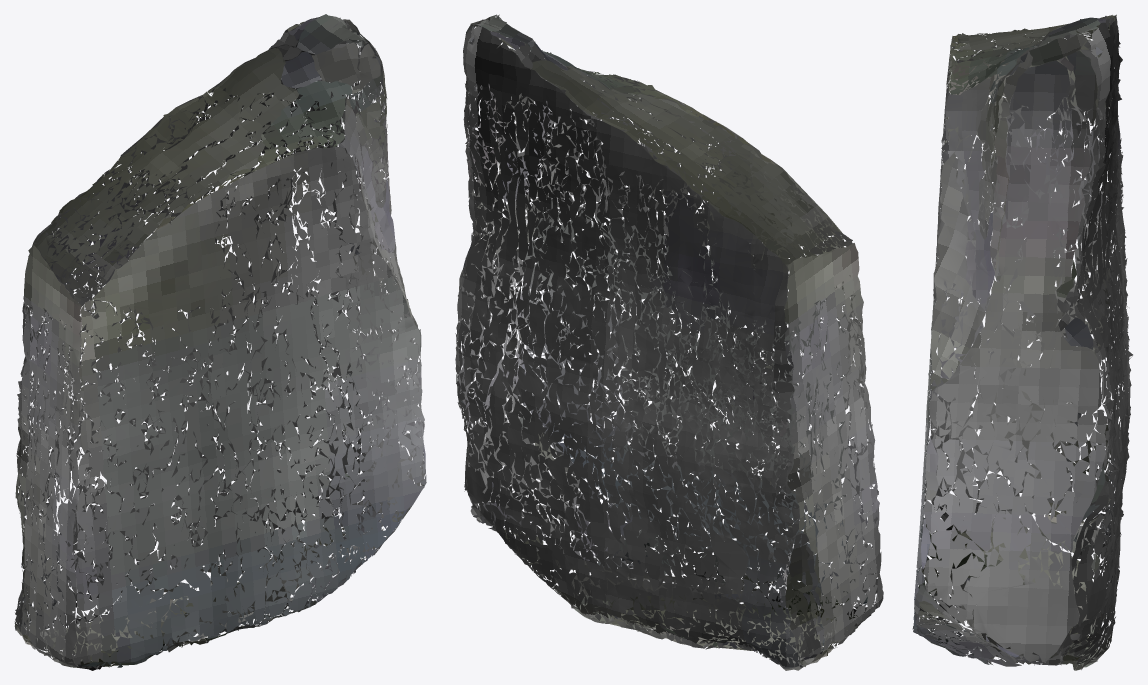
3 views of the same model, side by side, from view 1: azimuth 30°, elevation 25°; view 2: azimuth 150°, elevation 25°; view 3: azimuth 270°, elevation 25° (orthographic). The views are drawn at different scales.
Parts seen in each view (by area): view 1: Object_3; view 2: Object_3; view 3: Object_3.
Boxes of the visible parts, x1,y1,x2,y2 form: Object_3: [14, 14, 426, 670]; Object_3: [455, 14, 883, 670]; Object_3: [912, 14, 1132, 670].
Bounding box in the file's own units: 0.7881 × 1.17 × 0.3357.
1 material, 1 textured.
